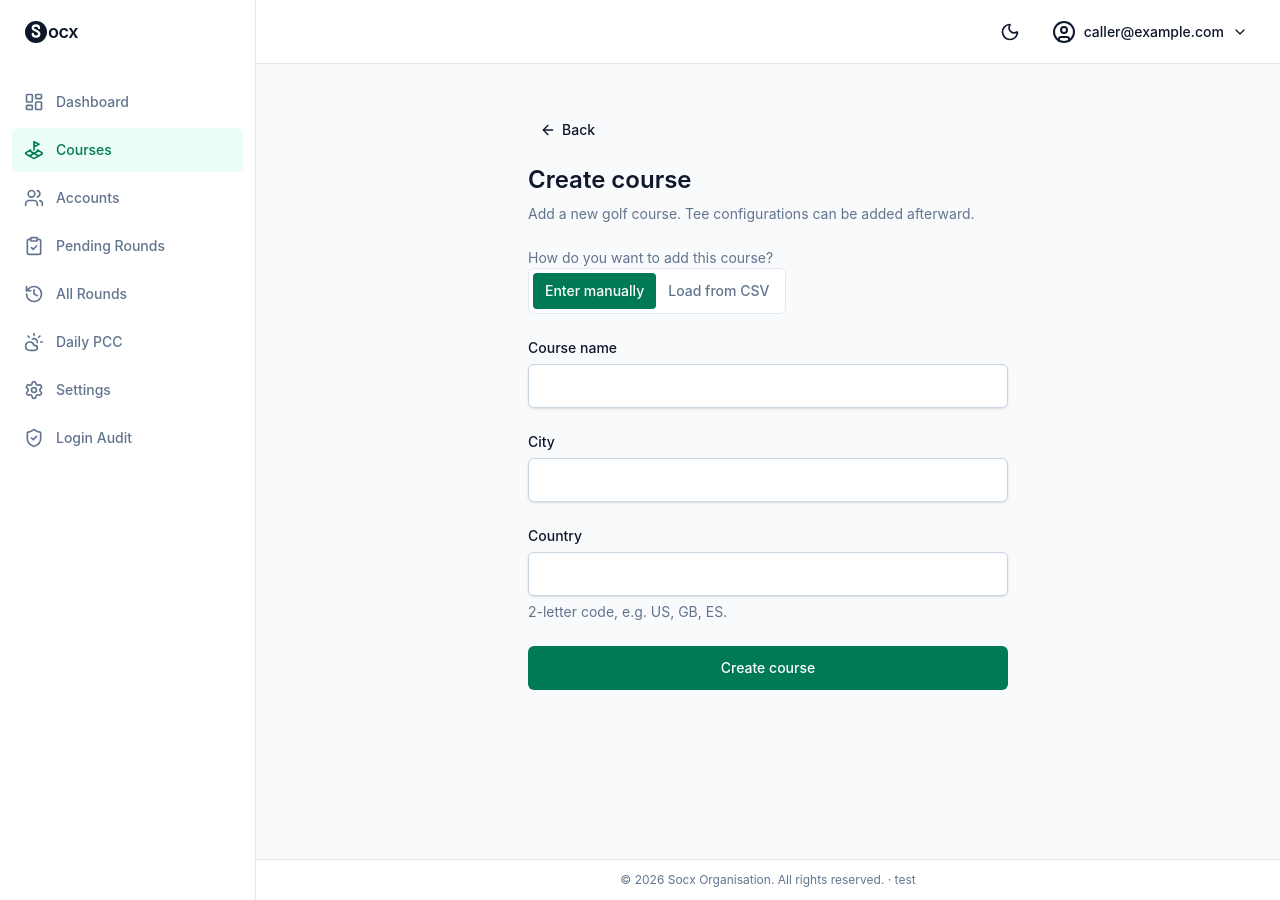
Scenario: CreateCoursePage › shows the server's error message via a form-level alert
The width and height of the screenshot is (1280, 900).
Type "Duplicate Course" into the field labelled "Course name". click: (768,386)
box: x1=528 y1=364 x2=1008 y2=408
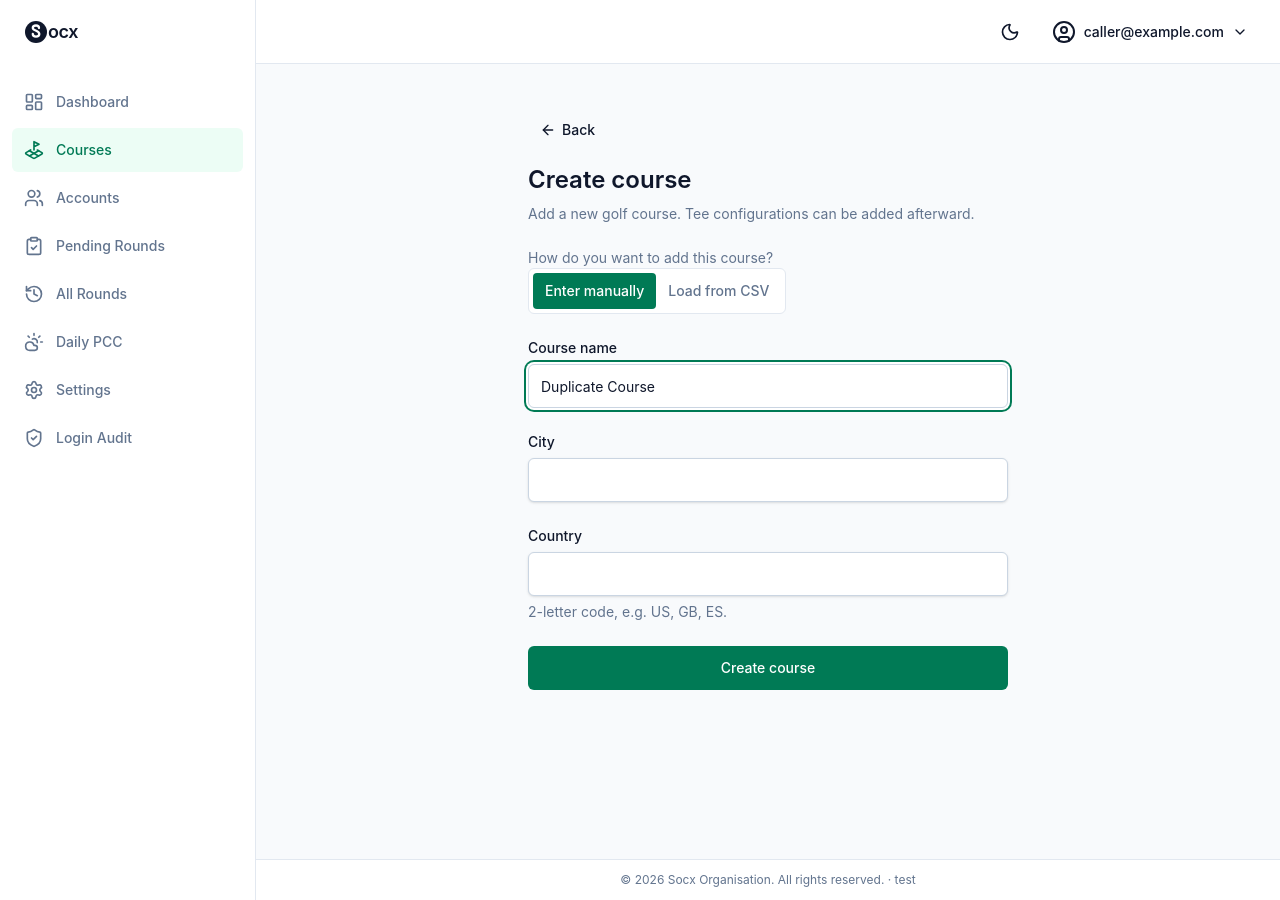
Click the button "Create course". click: (768,668)
box: x1=528 y1=646 x2=1008 y2=690
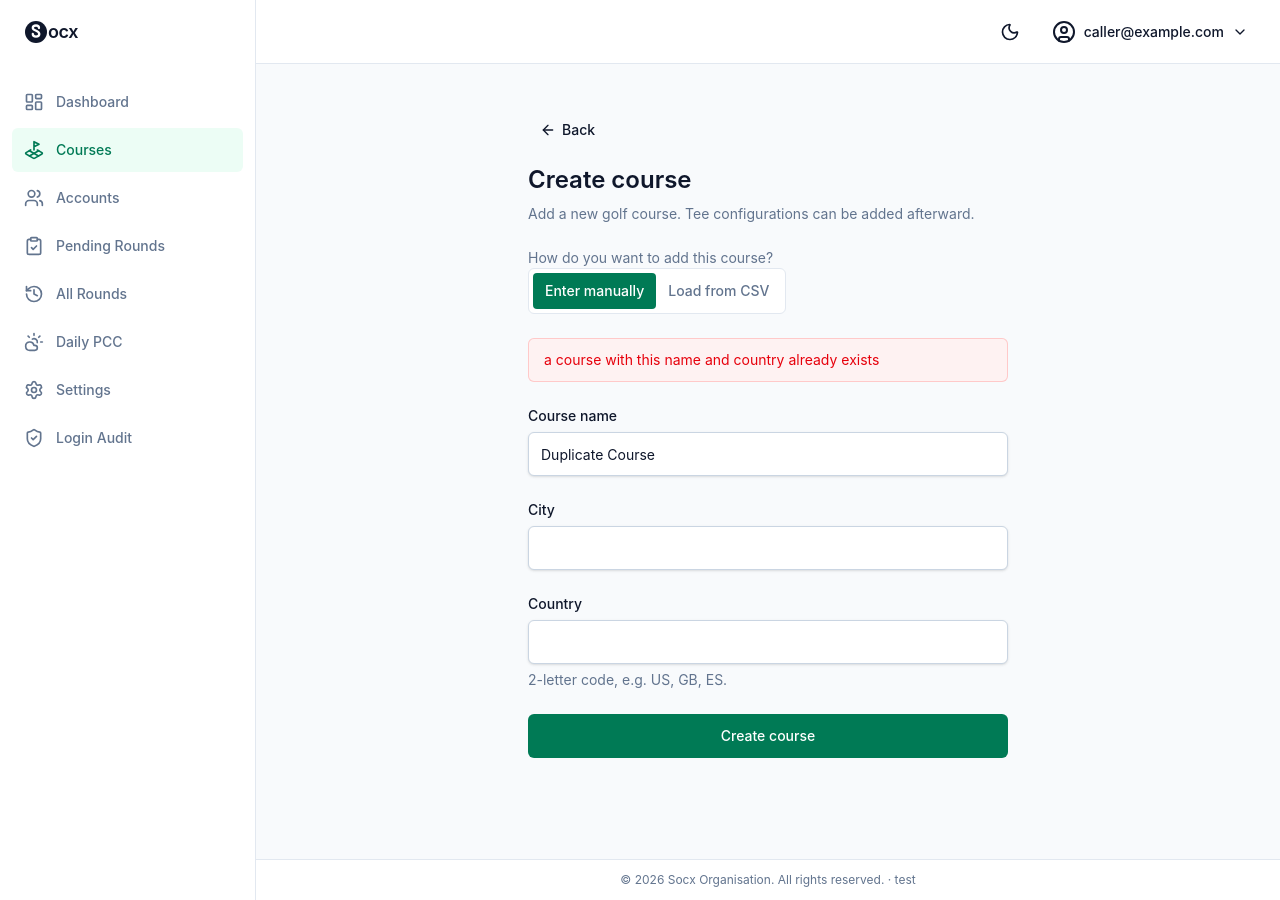
Expected: the message reads "a course with this name and country already exists", x1=544 y1=351 x2=879 y2=368
